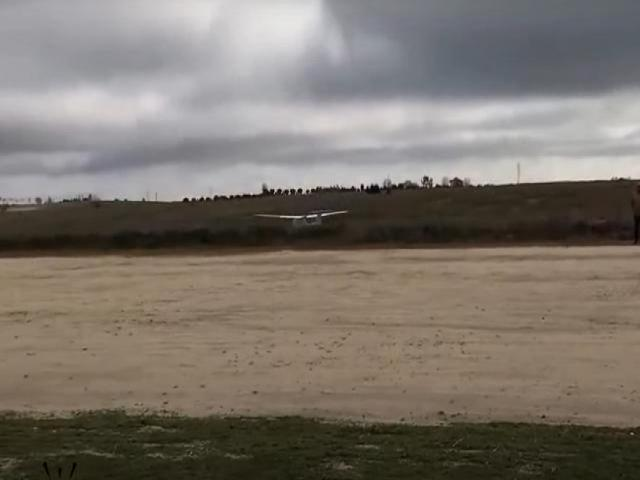iha: (260, 210, 344, 227)
